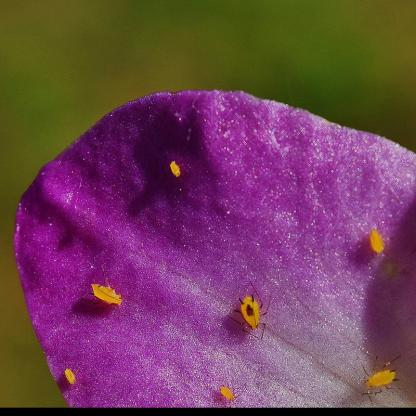aphid: (358, 346, 410, 402), (233, 283, 277, 337), (84, 275, 125, 309), (214, 380, 242, 406), (363, 226, 388, 254), (60, 361, 80, 390), (165, 155, 182, 182)
